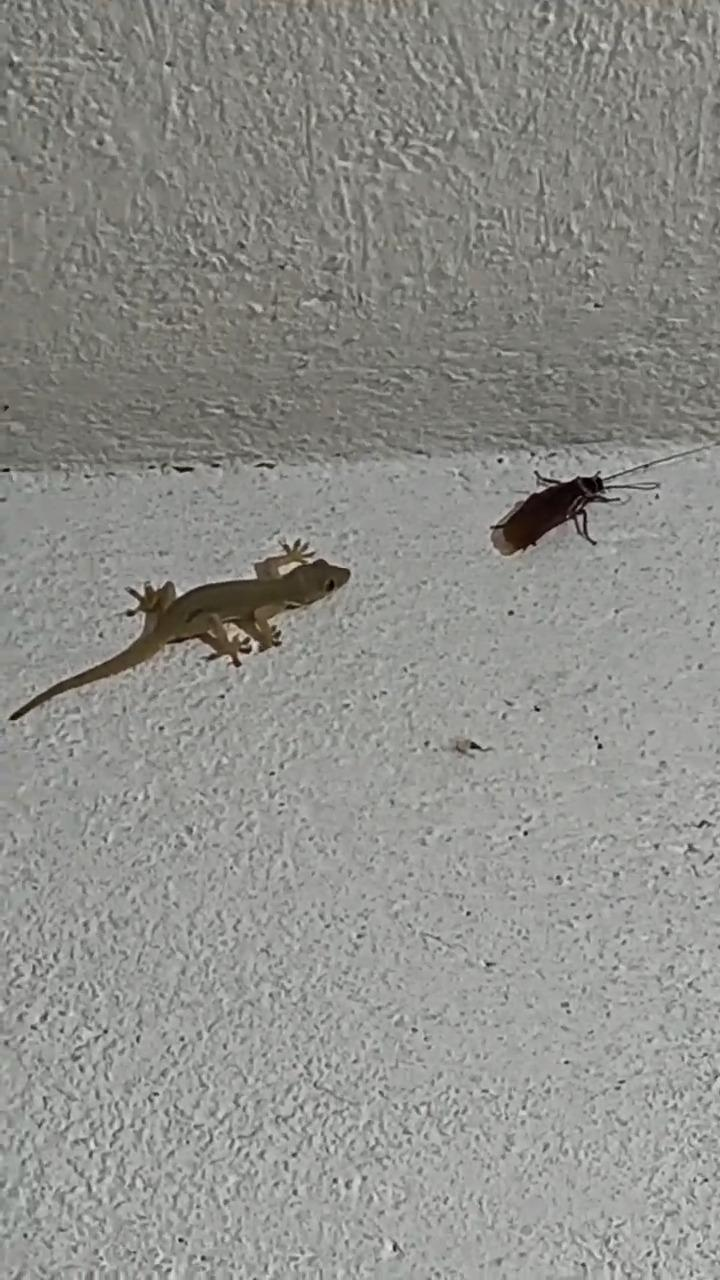cockroach: (488, 458, 663, 566)
lizard: (0, 508, 359, 730)
